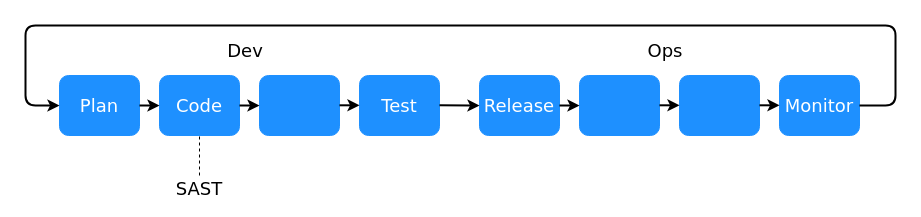
This 921x217 diagram has some shape labels left out. Each missing label, with the box of its shape:
Build: (258, 74, 340, 136)
Deploy: (578, 74, 660, 136)
Operate: (678, 74, 760, 136)
